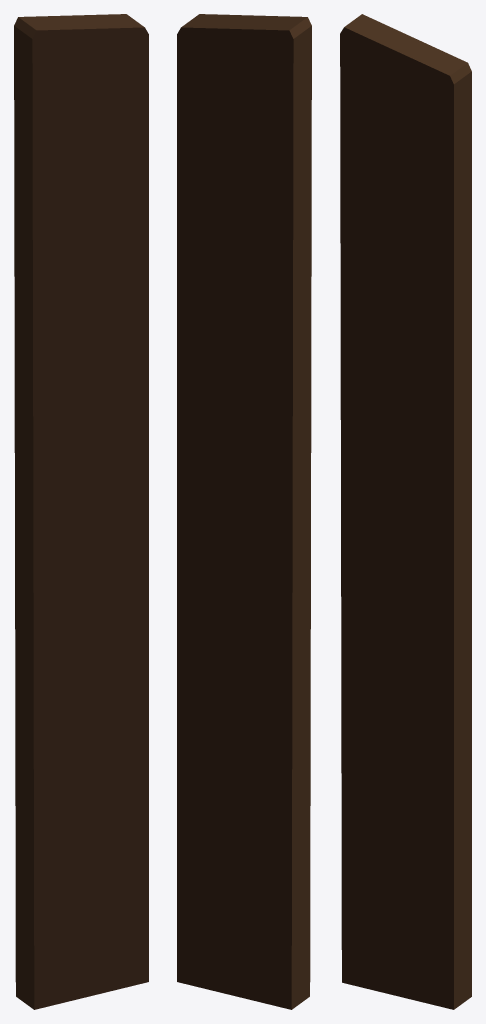
Rendered from Cave_Lair_Wooden_Timber_Plank_04.fbx.
3 views of the same model, side by side, from view 1: azimuth 30°, elevation 25°; view 2: azimuth 150°, elevation 25°; view 3: azimuth 330°, elevation 25° (orthographic). The views are drawn at different scales.
Visible parts, largest first — view 1: Cave_Lair_Wooden_Timber_Plank_04; view 2: Cave_Lair_Wooden_Timber_Plank_04; view 3: Cave_Lair_Wooden_Timber_Plank_04.
Part boxes in pixels (x1,y1,x2,y2): Cave_Lair_Wooden_Timber_Plank_04: [14, 14, 148, 1009]; Cave_Lair_Wooden_Timber_Plank_04: [177, 14, 311, 1009]; Cave_Lair_Wooden_Timber_Plank_04: [340, 14, 471, 1009].
Size of the model in its own units: 0.1708 by 1.37 by 0.0468.
